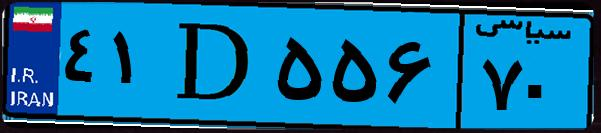0: (525, 38, 570, 115)
1: (110, 28, 158, 98)
4: (57, 26, 110, 100)
5: (270, 28, 330, 110), (330, 28, 385, 110)
6: (385, 28, 445, 110)
7: (475, 38, 525, 113)
D: (158, 12, 270, 120)
